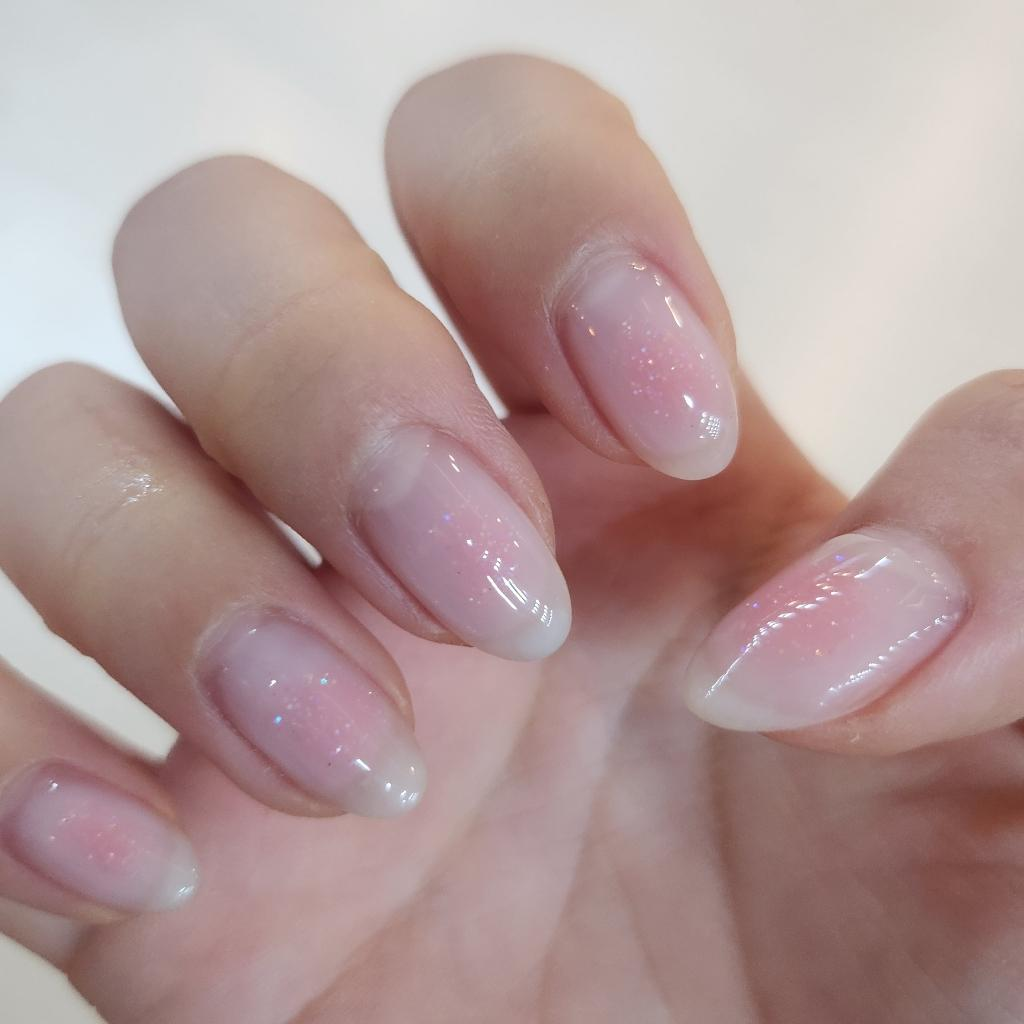nail: (681, 523, 972, 735), (344, 419, 573, 662), (189, 598, 428, 819), (550, 245, 740, 481), (0, 567, 181, 767), (1, 756, 201, 917)
